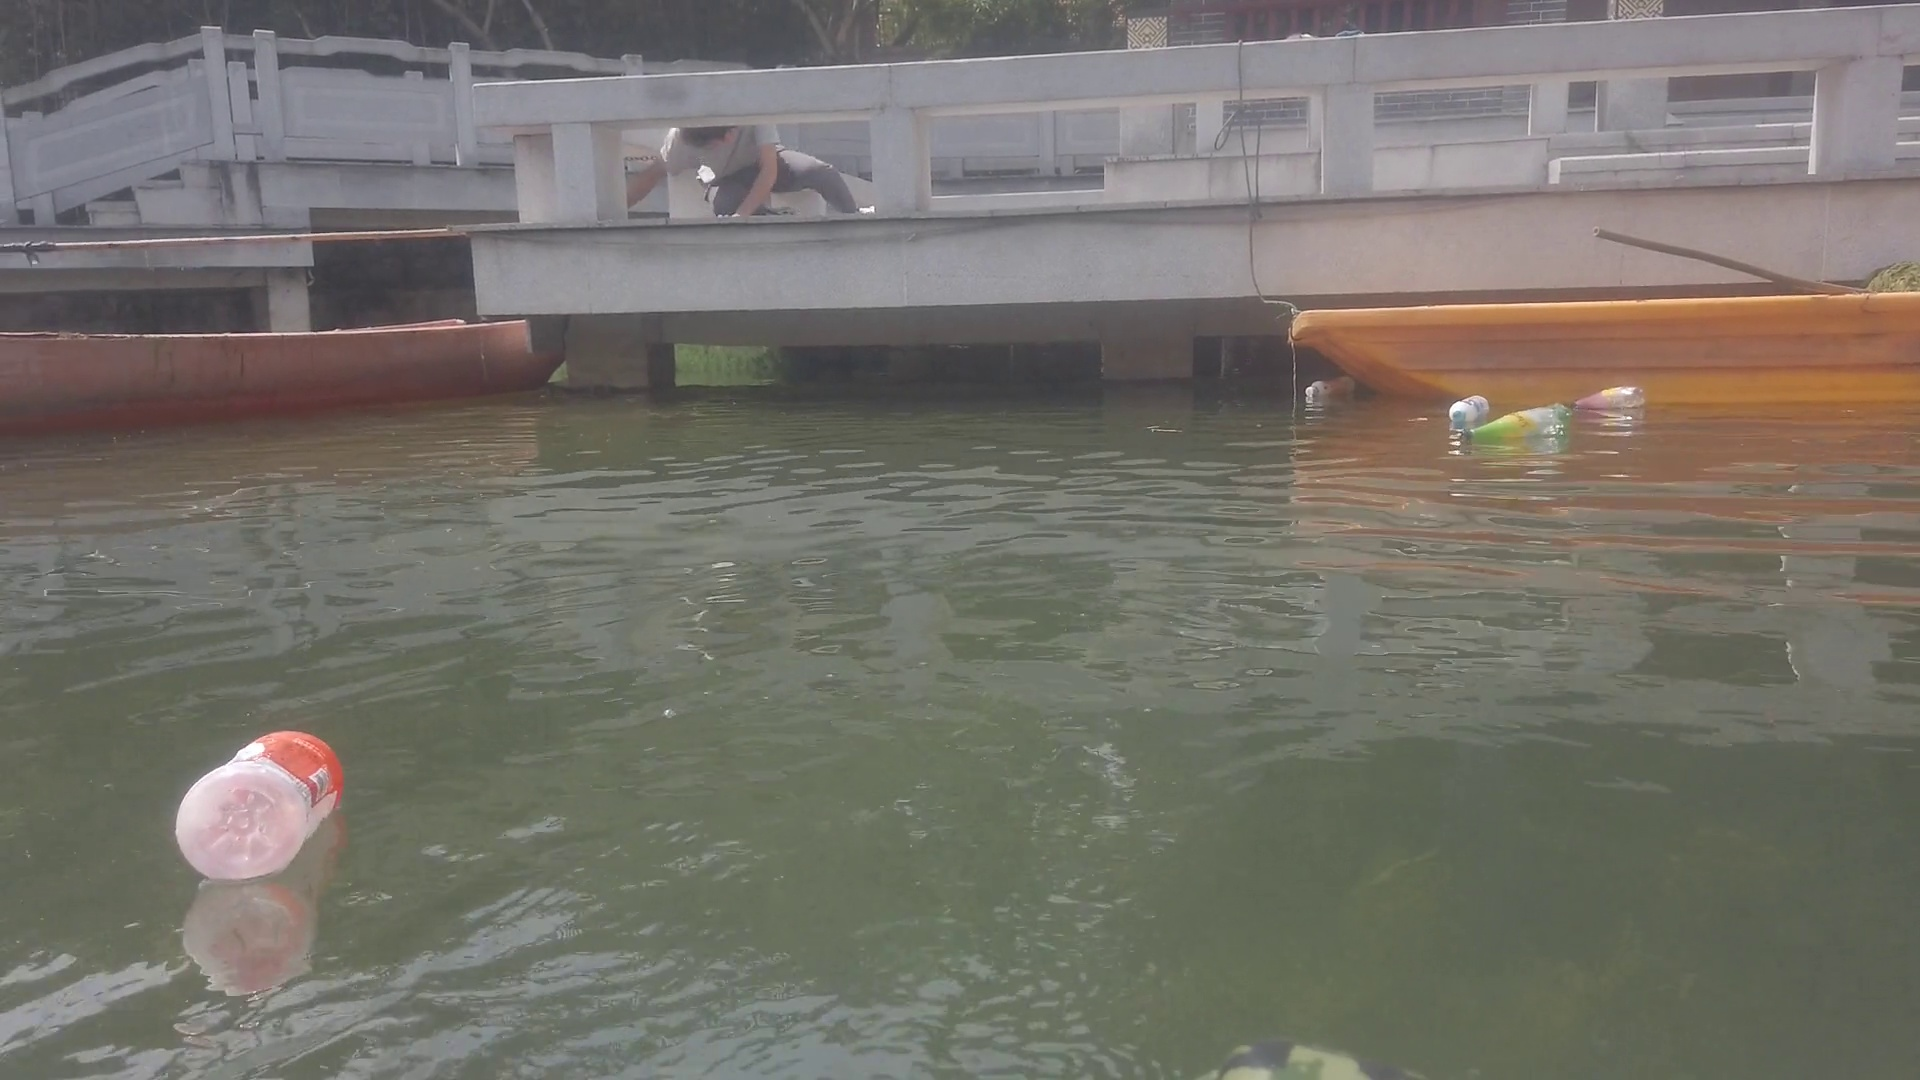bottle: (174, 723, 345, 880), (1458, 404, 1565, 440), (1563, 390, 1646, 411), (1303, 373, 1356, 396), (1449, 396, 1487, 423)
